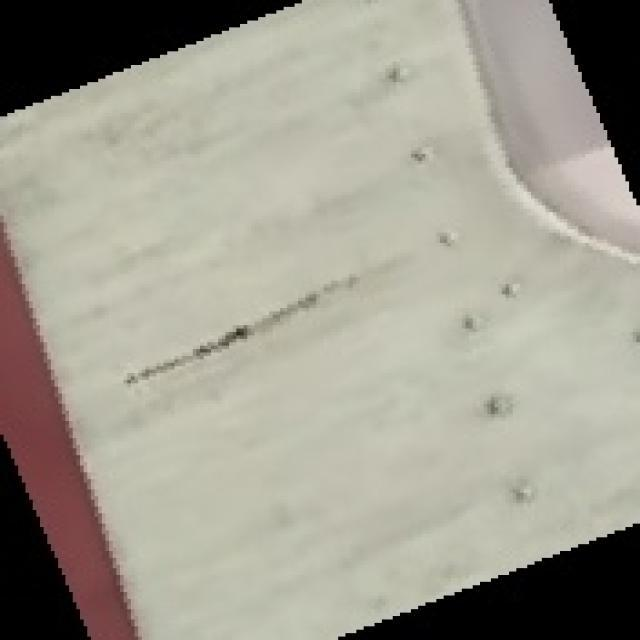crack: (114, 265, 423, 409)
